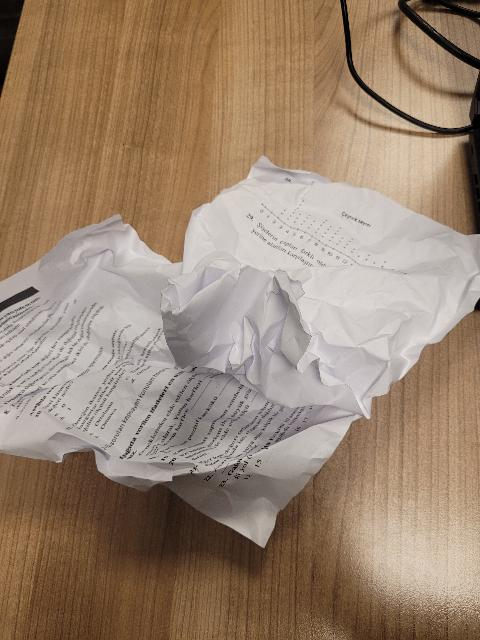Kagit: (181, 139, 476, 556), (1, 210, 341, 488)
